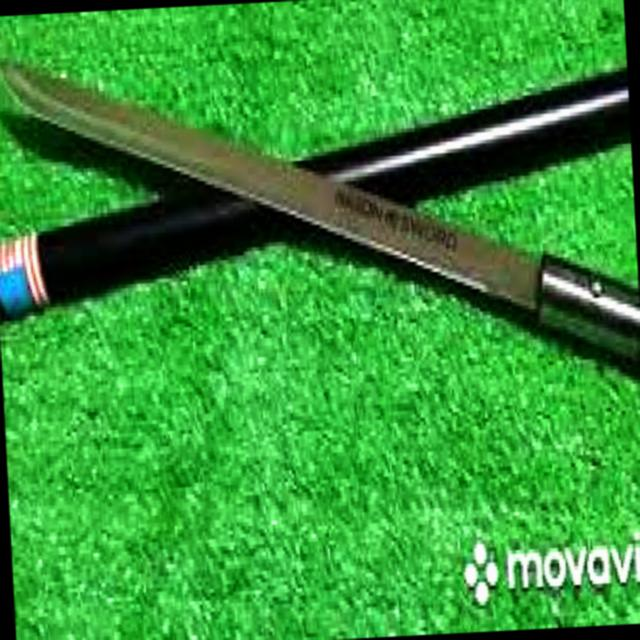long sword: (0, 26, 640, 403)
